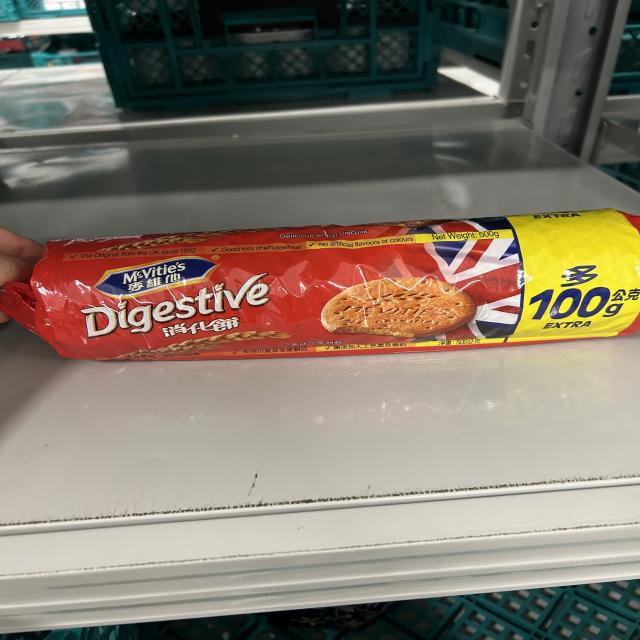object_name: (30, 239, 640, 342)
